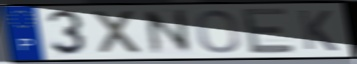3: (44, 8, 90, 58)
E: (239, 6, 298, 56)
K: (296, 9, 340, 53)
N: (141, 7, 197, 57)
O: (194, 9, 243, 55)
X: (91, 9, 146, 57)
